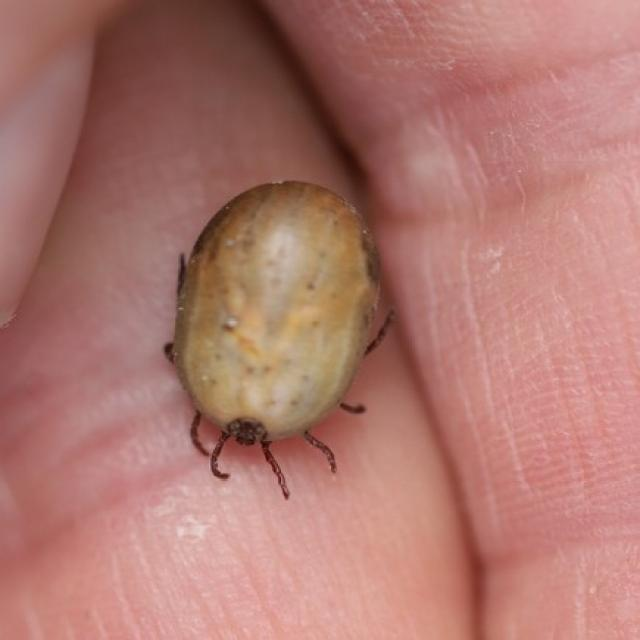Dermacentor Reticulatus-F-Fed: (163, 182, 394, 500)
